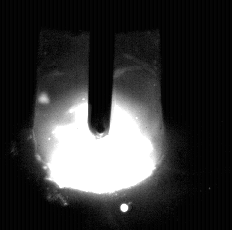arame: (89, 0, 112, 138)
poca: (33, 0, 166, 230)
